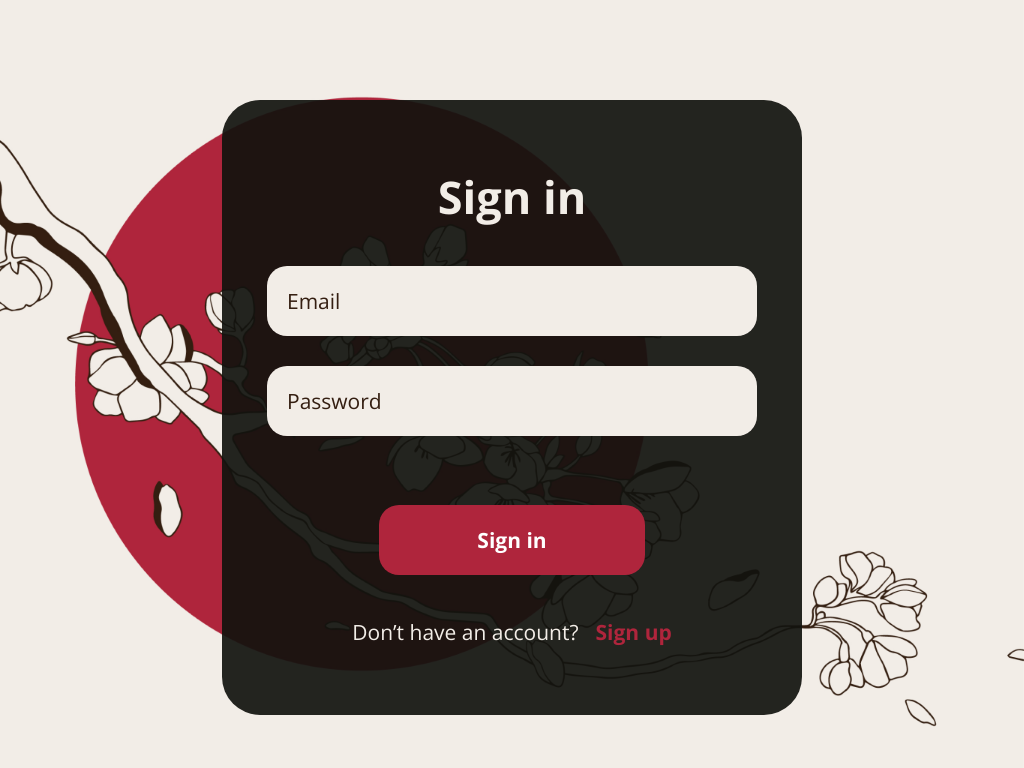
Test: Test SignIn component › should display error messages if form fields are empty
Step 1. Click the button "Sign in" → (512, 540), box [379,505,645,575]
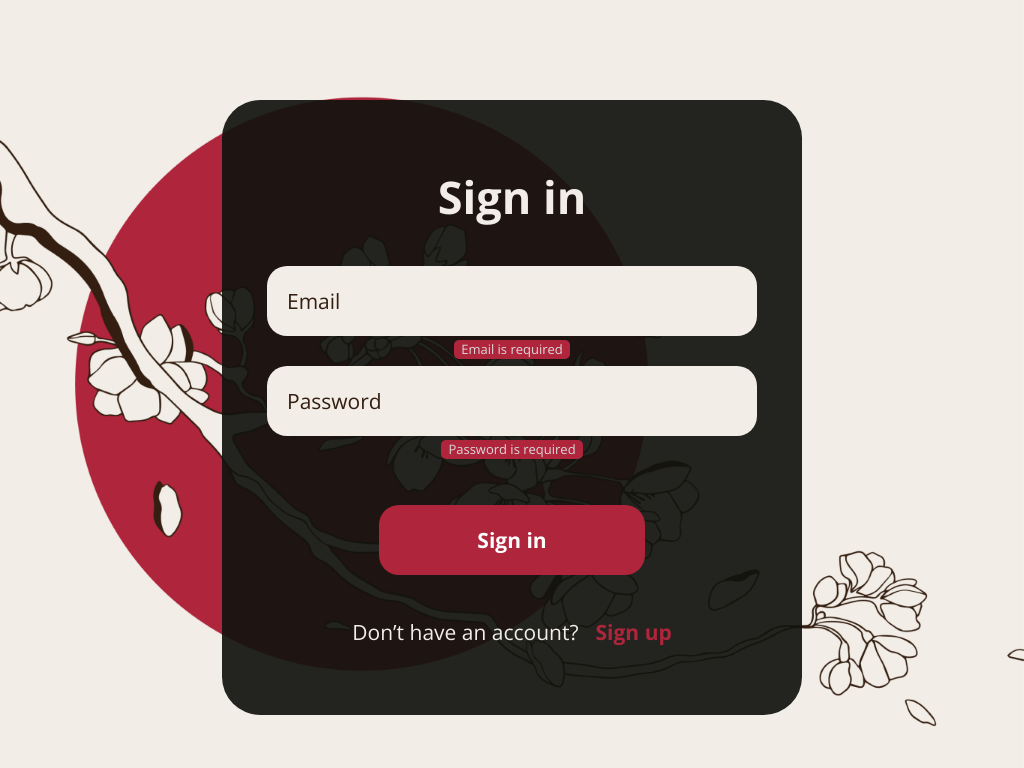
Expected: the text "Email is required" is shown, [454,340,570,359]
Expected: the text "Password is required" is shown, [441,440,583,459]
